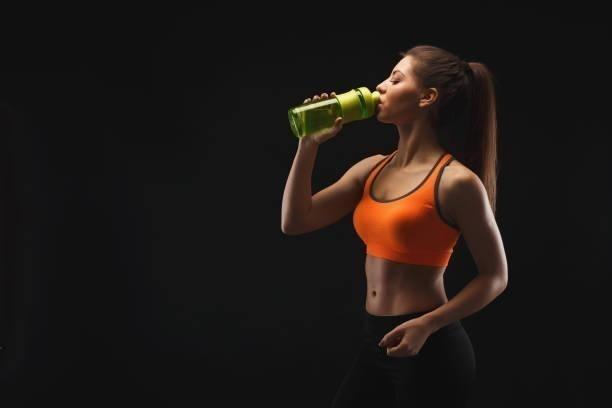gym bottle: (288, 85, 380, 139)
